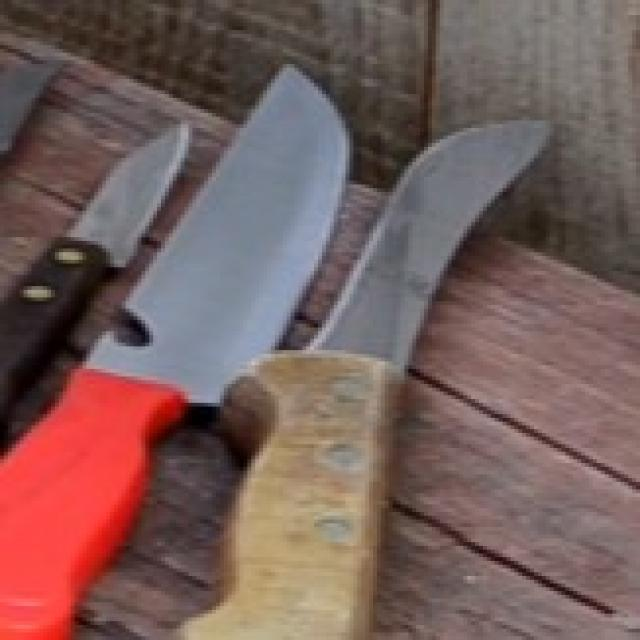knives: (152, 11, 363, 440)
